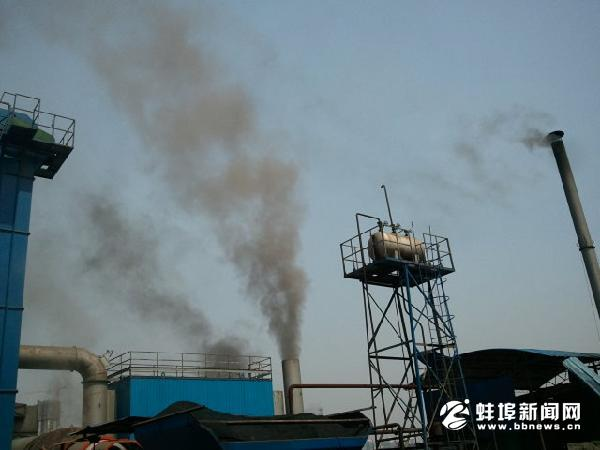dust: (228, 213, 318, 361), (459, 111, 577, 175)
